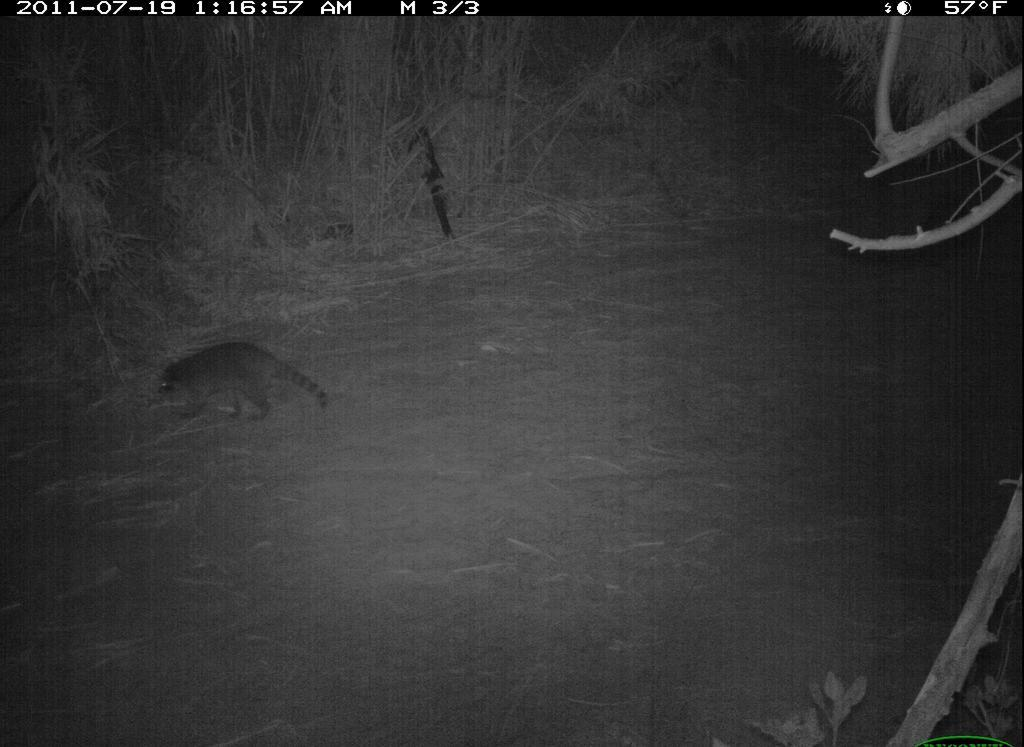raccoon: (152, 340, 337, 432)
